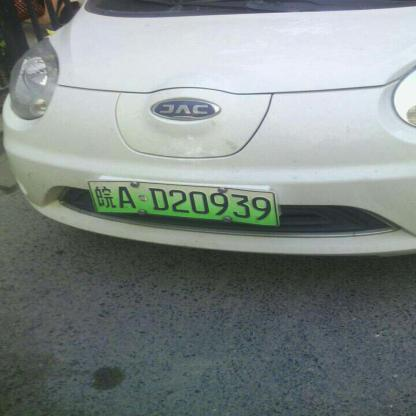lp: (88, 180, 278, 224)
